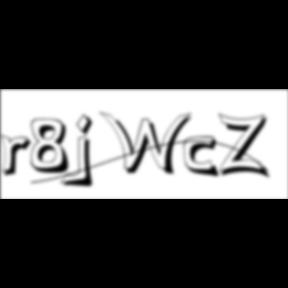8: (32, 117, 76, 176)
W: (99, 110, 197, 178)
Z: (218, 112, 274, 181)
c: (184, 136, 224, 180)
j: (74, 113, 100, 191)
r: (0, 134, 38, 180)
